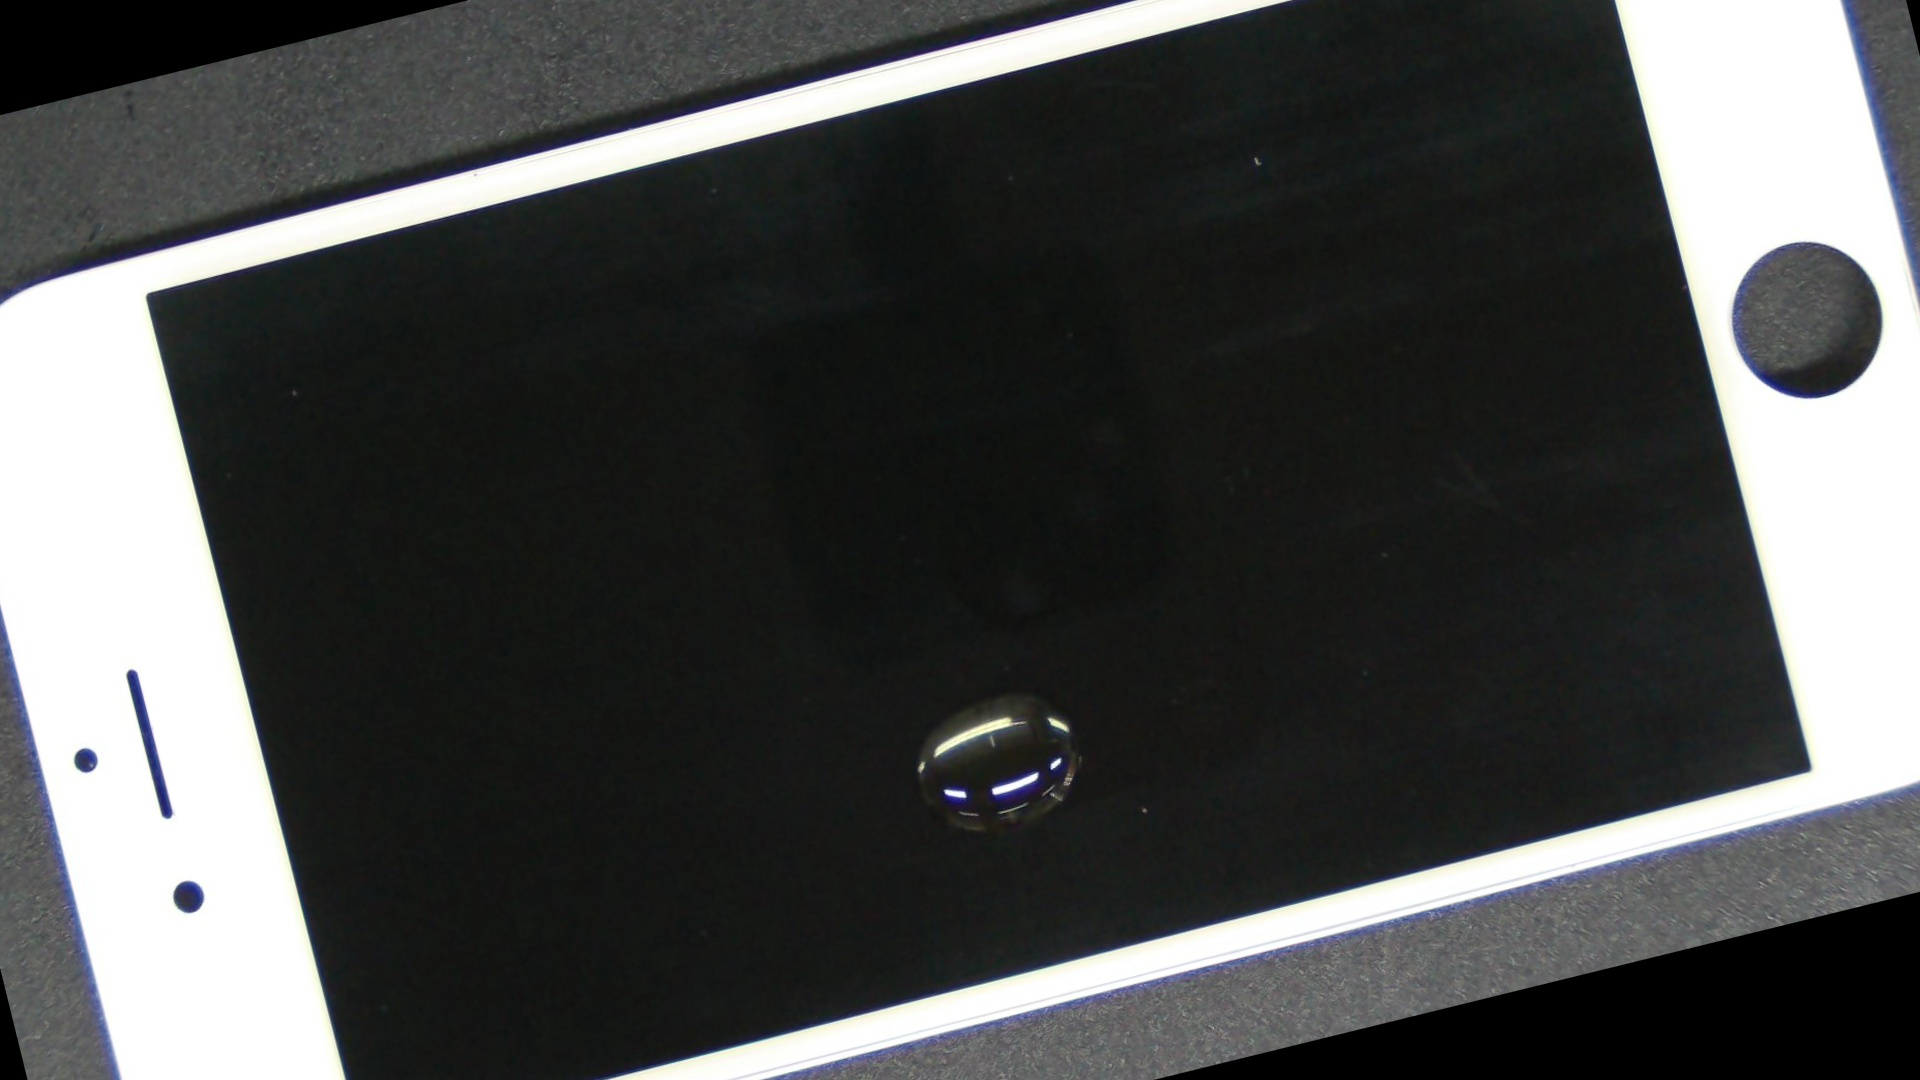oil: (392, 190, 1568, 1080)
